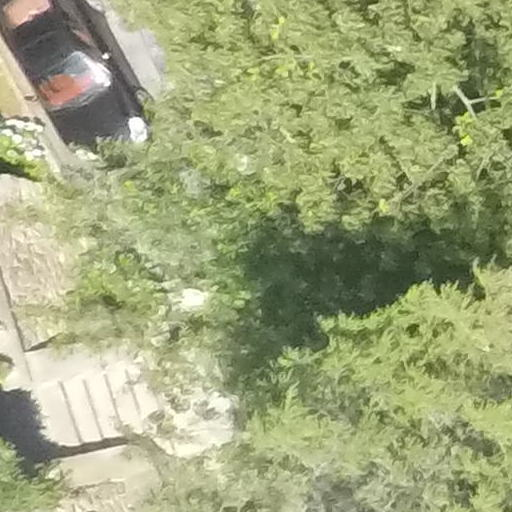car: (1, 6, 183, 148)
